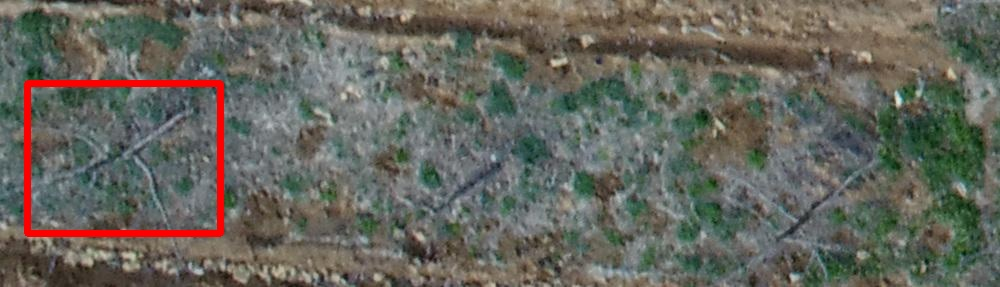apple: (27, 83, 220, 233)
